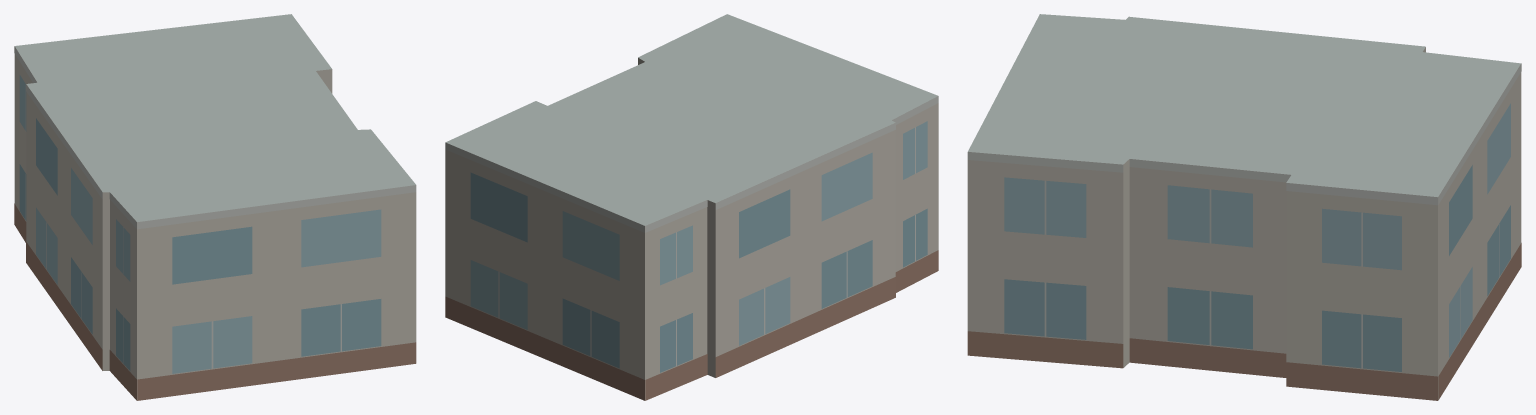
Rendered from survey-upis-32465695.glb.
3 renders of one model, left to right at view 1: azimuth 30°, elevation 25°; view 2: azimuth 150°, elevation 25°; view 3: azimuth 270°, elevation 25°, orthographic. The views are drawn at different scales.
Visible parts, largest first — view 1: survey-upis-32465695.tmp; view 2: survey-upis-32465695.tmp; view 3: survey-upis-32465695.tmp.
Part boxes in pixels (bbox=[...]): survey-upis-32465695.tmp: bbox=[14, 14, 416, 400]; survey-upis-32465695.tmp: bbox=[445, 14, 938, 400]; survey-upis-32465695.tmp: bbox=[967, 14, 1521, 400].
Size of the model in its own units: 11.77 by 6.1 by 15.04.
